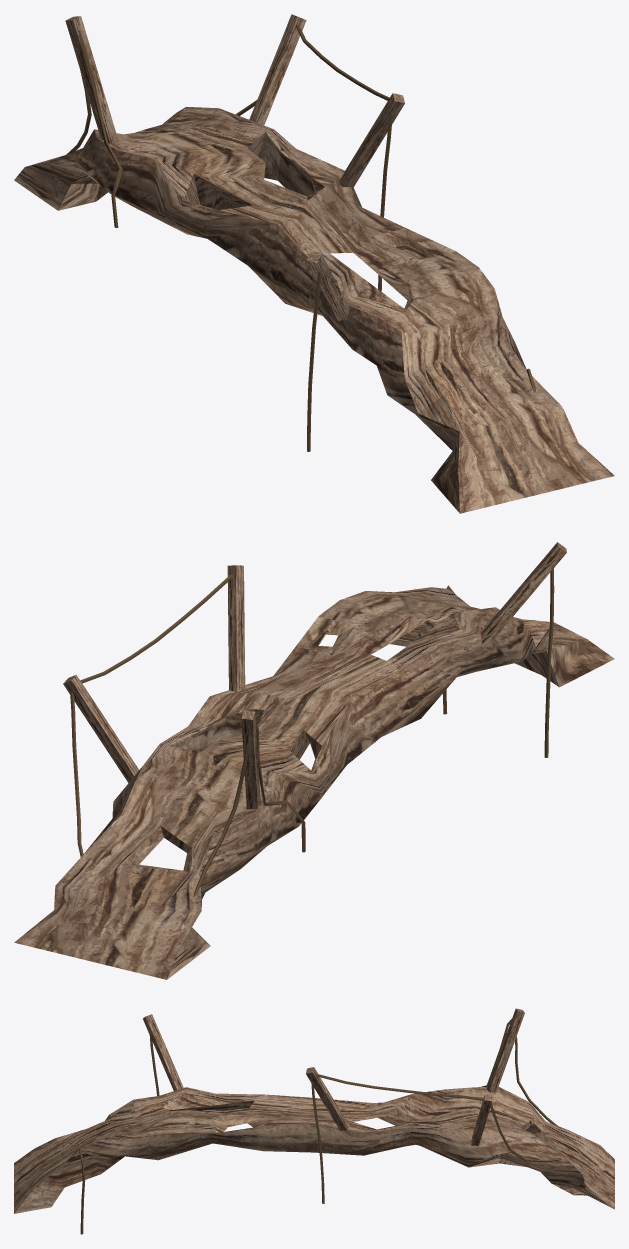
The model's file is bridge3.fbx.
The picture shows the model from 3 angles, top to bottom: view 1: azimuth 30°, elevation 25°; view 2: azimuth 150°, elevation 25°; view 3: azimuth 270°, elevation 25°; orthographic projection. The views are drawn at different scales.
Parts seen in each view (by area): view 1: polySurface3; view 2: polySurface3; view 3: polySurface3.
Part boxes in pixels (left/top/right/bottom): polySurface3: left=14, top=14, right=614, bottom=513; polySurface3: left=14, top=542, right=614, bottom=979; polySurface3: left=14, top=1008, right=614, bottom=1234.
Bounding box in the file's own units: 98.5 × 102 × 306.
